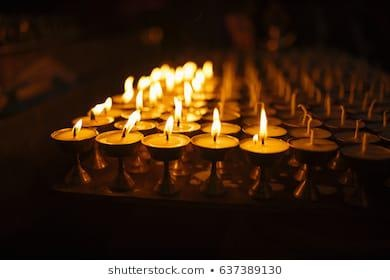fire: (122, 60, 214, 123), (256, 104, 269, 142), (210, 106, 221, 138), (162, 113, 174, 136)
